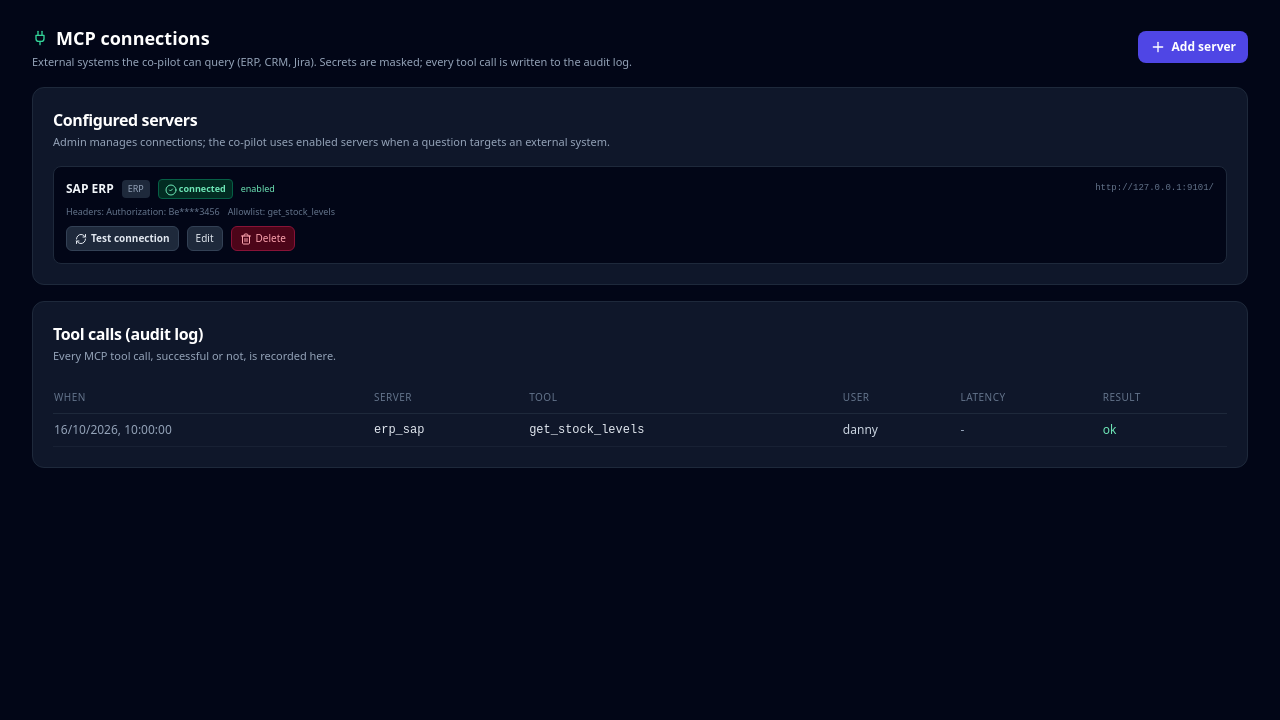
Test: McpPage › test connection calls the endpoint and refreshes
Expected: the element with test id "mcp-server-erp_sap" is shown, [53,166,1227,264]
Click the button with test id "mcp-test-erp_sap" at (122, 238), box [66,226,179,251]
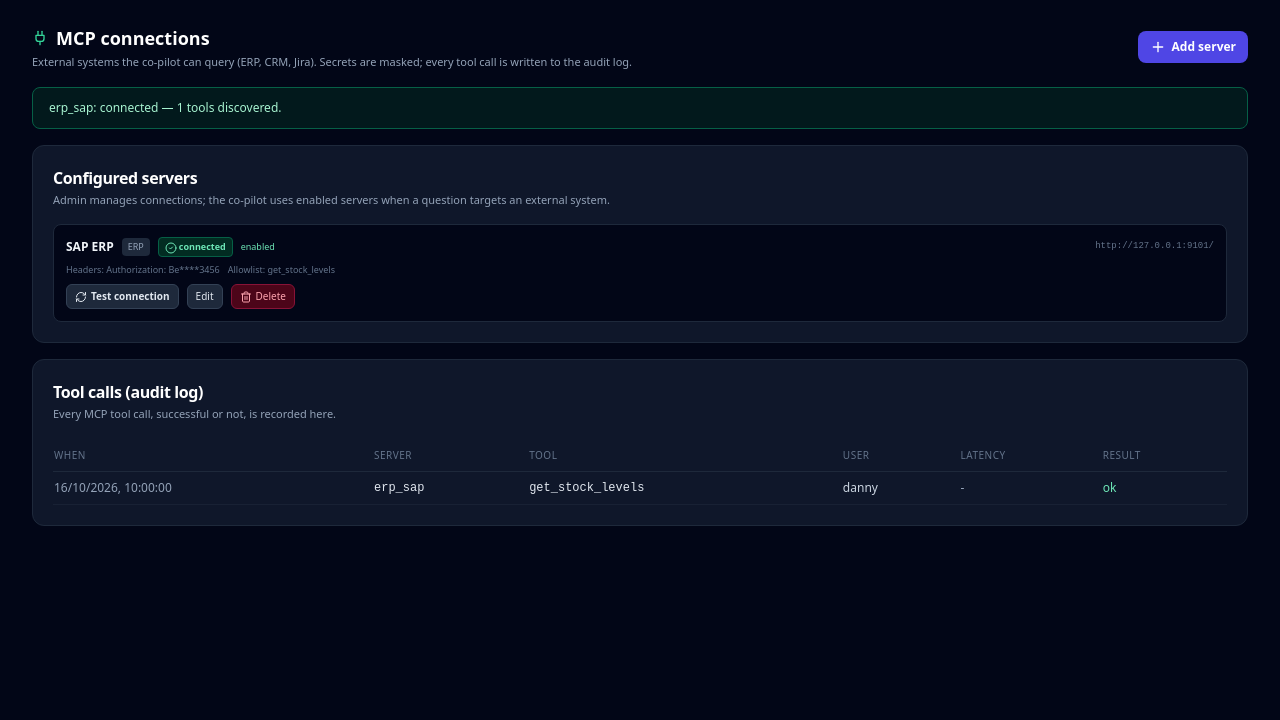
Expected: the text "erp_sap: connected — 1 tools discovered." is shown, [32,86,1248,128]
